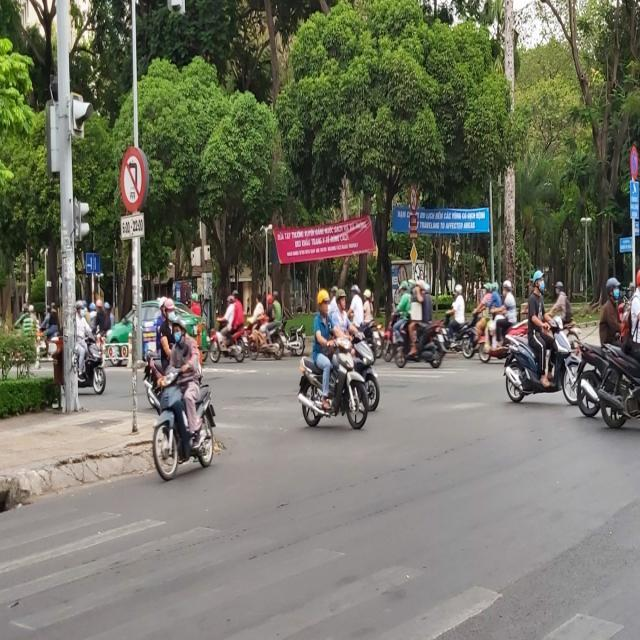normal: (120, 294, 226, 491), (267, 260, 387, 434), (491, 253, 594, 423), (387, 244, 463, 387)
